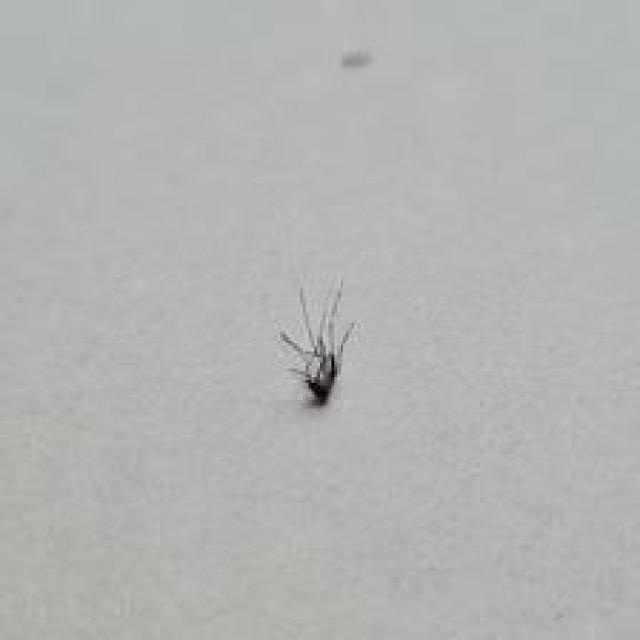Aedes albopictus: (278, 276, 358, 407)
